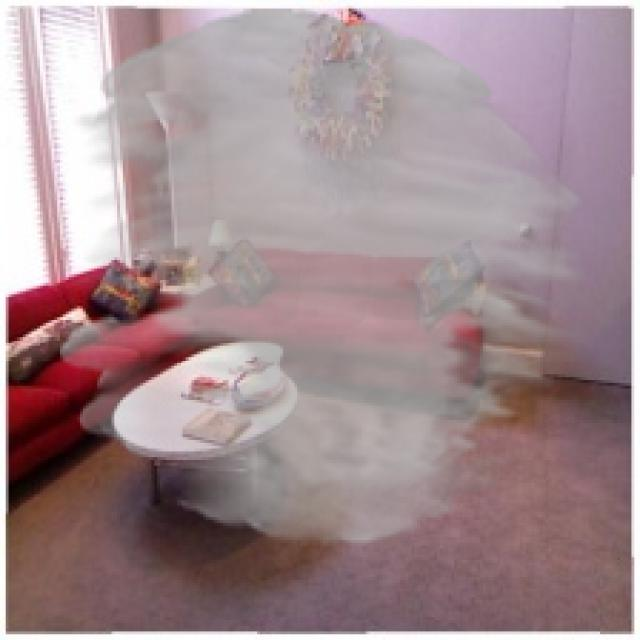smoke: (60, 8, 589, 546)
